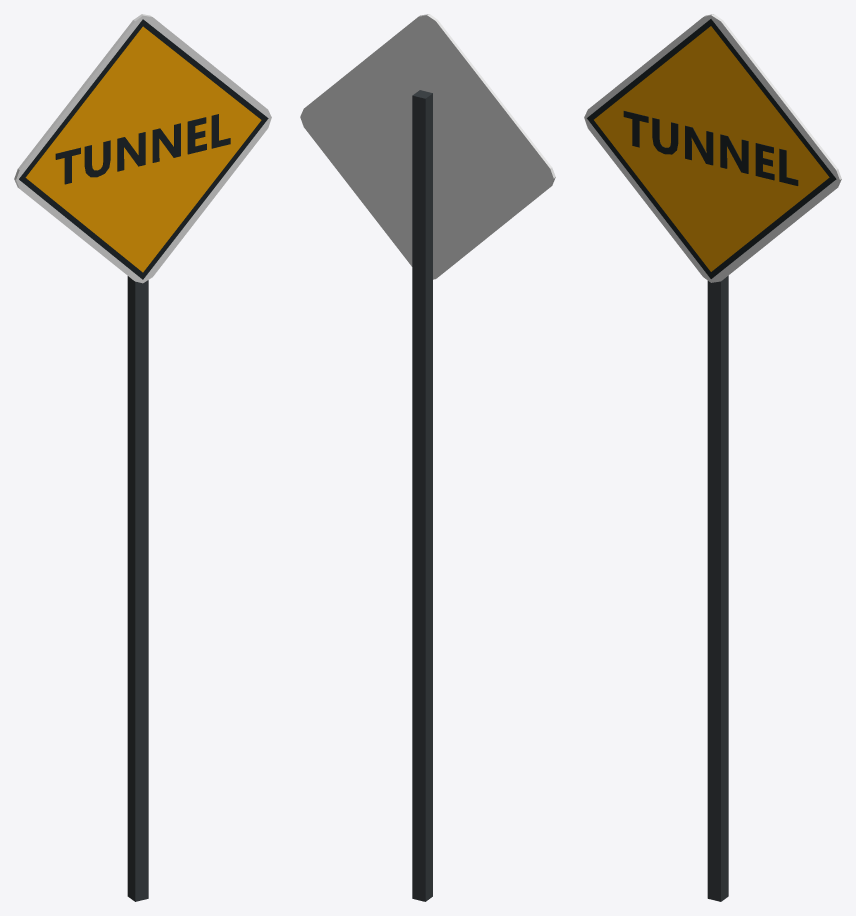
Rendered from SM_FloorProps_RoadSign_18.fbx.
3 renders of one model, left to right at view 1: azimuth 30°, elevation 25°; view 2: azimuth 150°, elevation 25°; view 3: azimuth 330°, elevation 25°, orthographic.
Parts seen in each view (by area): view 1: SM_FloorProps_RoadSign_18; view 2: SM_FloorProps_RoadSign_18; view 3: SM_FloorProps_RoadSign_18.
Part boxes in pixels (x1,y1,x2,y2): SM_FloorProps_RoadSign_18: (14, 14, 271, 901); SM_FloorProps_RoadSign_18: (300, 14, 555, 901); SM_FloorProps_RoadSign_18: (584, 14, 841, 901).
Bounding box in the file's own units: 0.8264 × 2.74 × 0.0573.
